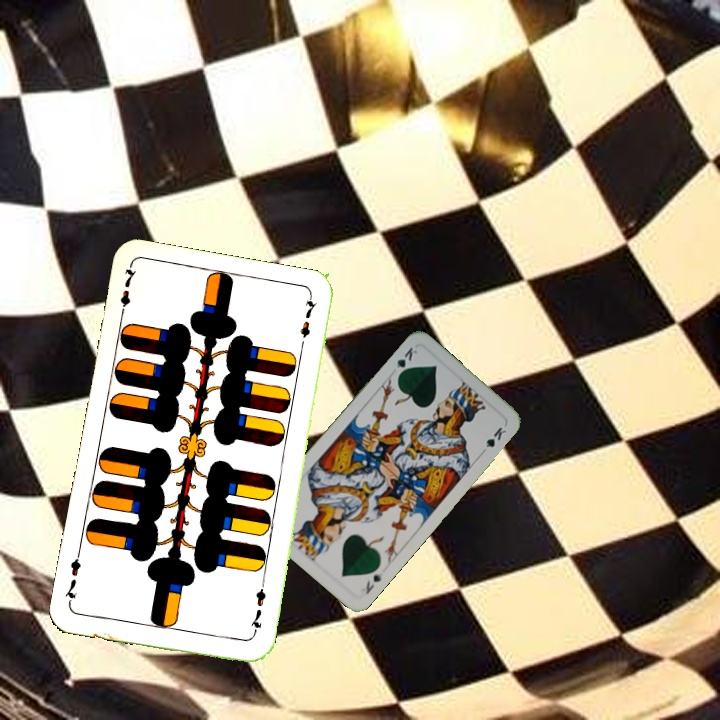E7: (246, 580, 269, 639), (116, 263, 139, 321)
GK: (392, 343, 420, 380), (361, 568, 385, 597)
